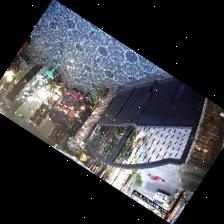person: (148, 174, 164, 181)
